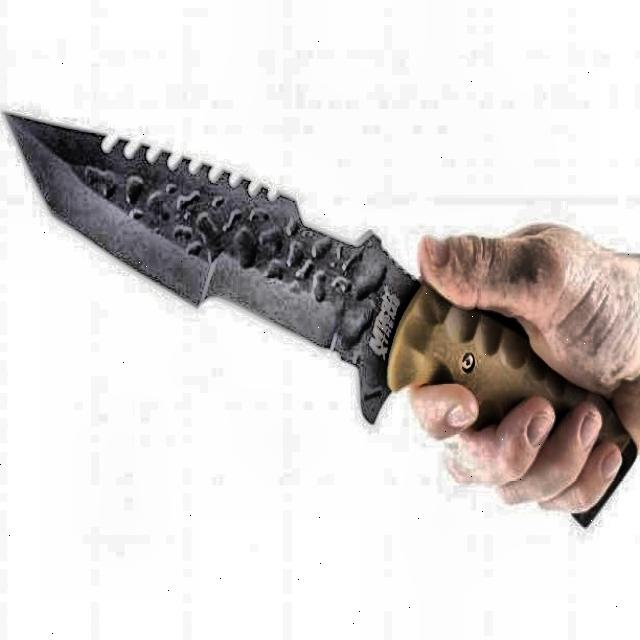knife: (3, 112, 638, 528)
